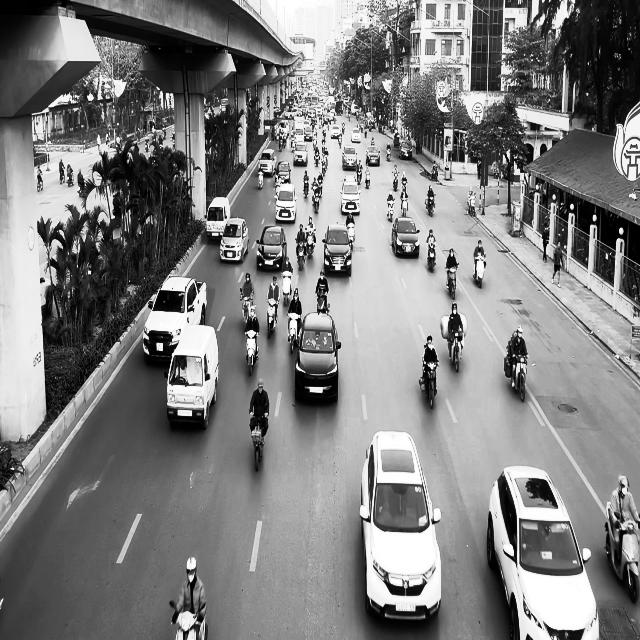car: (486, 464, 600, 640), (359, 430, 442, 622), (143, 276, 207, 363), (294, 311, 342, 404), (322, 222, 352, 276), (220, 217, 250, 264), (256, 225, 287, 270), (391, 216, 420, 258), (275, 182, 298, 223), (339, 176, 362, 215), (342, 145, 358, 170), (366, 145, 380, 166), (399, 140, 413, 160)
motorbike: (605, 501, 640, 603), (504, 338, 529, 402), (170, 601, 208, 639), (250, 414, 268, 471), (419, 359, 439, 408), (244, 329, 260, 376), (448, 328, 464, 372), (288, 312, 301, 354), (446, 263, 460, 300), (266, 300, 279, 339), (240, 288, 254, 321), (473, 254, 486, 288), (282, 270, 293, 305), (316, 287, 328, 315), (296, 238, 306, 270), (426, 242, 436, 272), (346, 223, 356, 250), (426, 193, 436, 216), (400, 192, 409, 217), (387, 197, 395, 222), (467, 194, 476, 216), (258, 167, 264, 189), (37, 172, 43, 192), (67, 170, 74, 186), (365, 166, 370, 188), (386, 148, 391, 160)
